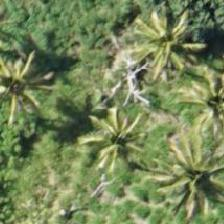coconut_tree: (67, 95, 157, 185), (120, 0, 210, 88), (145, 131, 223, 221), (0, 42, 52, 132), (173, 61, 223, 151)
